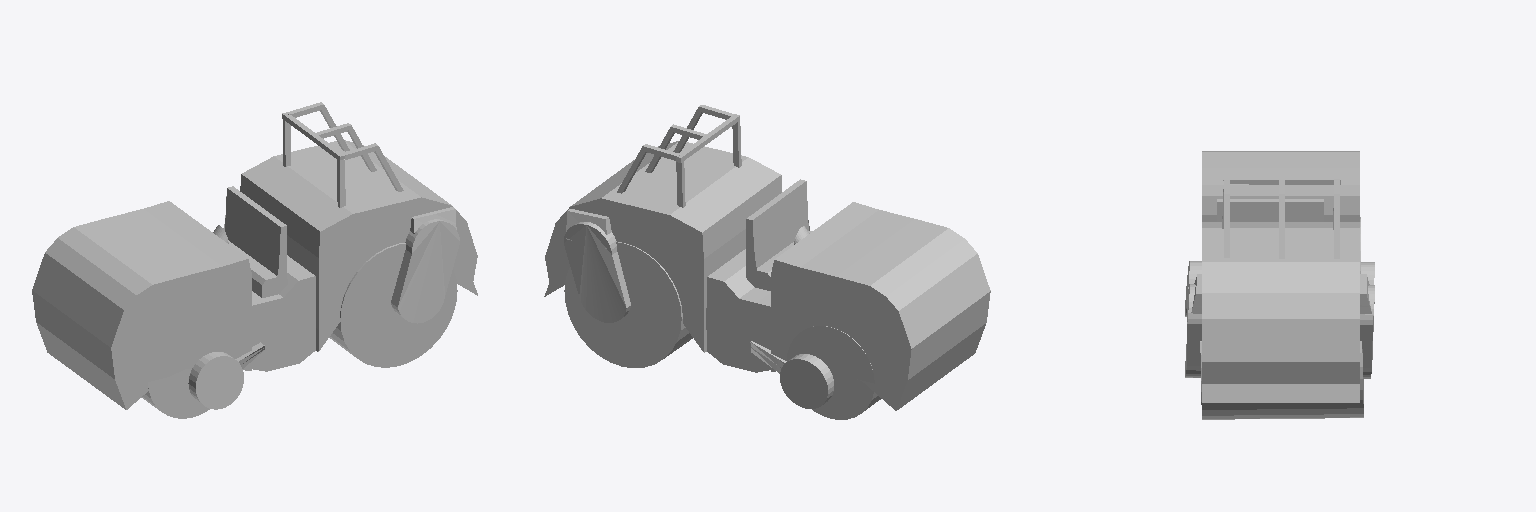
Rendered from Steam_roller.obj.
3 renders of one model, left to right at view 1: azimuth 30°, elevation 25°; view 2: azimuth 150°, elevation 25°; view 3: azimuth 270°, elevation 25°, orthographic.
Visible parts, largest first — view 1: Cube; view 2: Cube; view 3: Cube.
Boxes of the visible parts, <box> form: Cube: <box>32,102,477,418</box>; Cube: <box>544,105,990,419</box>; Cube: <box>1185,151,1374,419</box>.
Size of the model in its own units: 5.37 by 3.03 by 2.4.